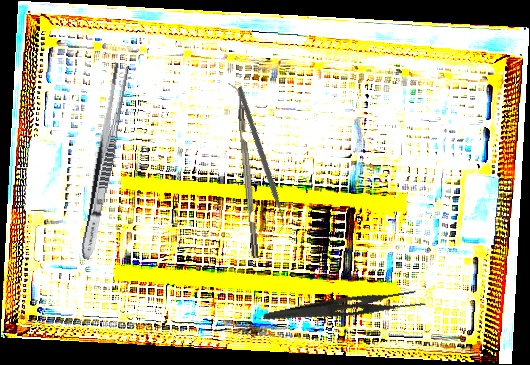Chopper: (182, 85, 336, 236), (228, 81, 259, 260)
Dressing Forceps: (76, 61, 132, 262), (262, 281, 428, 339)
